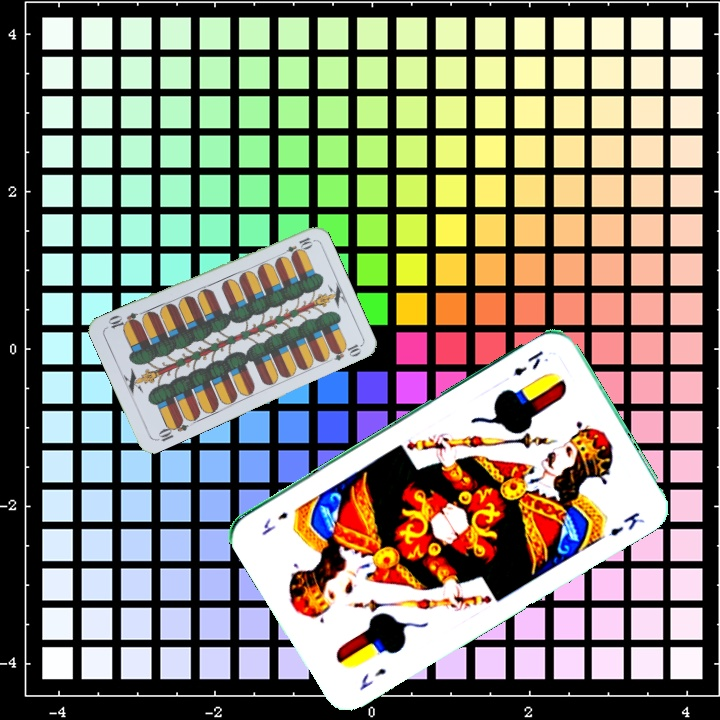E10: (152, 415, 191, 444), (276, 233, 315, 260)
EK: (509, 346, 546, 379), (355, 663, 389, 693)
